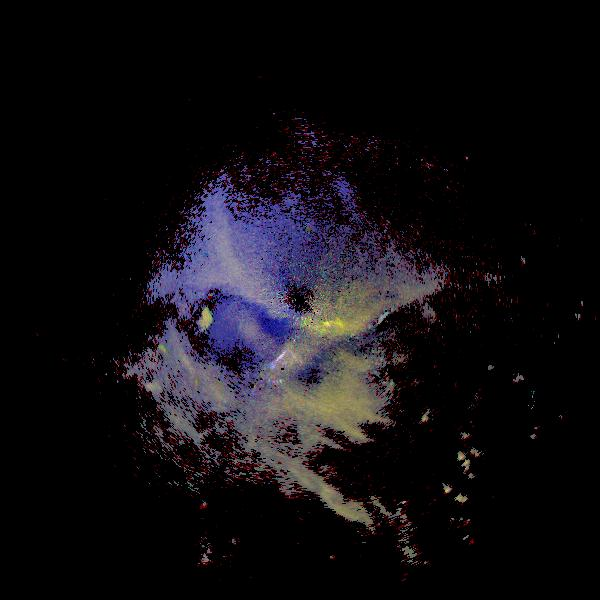roost: (161, 287, 230, 356)
